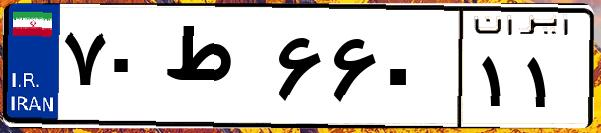0: (385, 28, 445, 110), (110, 28, 158, 98)
1: (475, 38, 525, 113), (525, 38, 570, 115)
6: (270, 28, 330, 110), (330, 28, 385, 110)
7: (57, 26, 110, 100)
ط: (158, 20, 270, 120)
